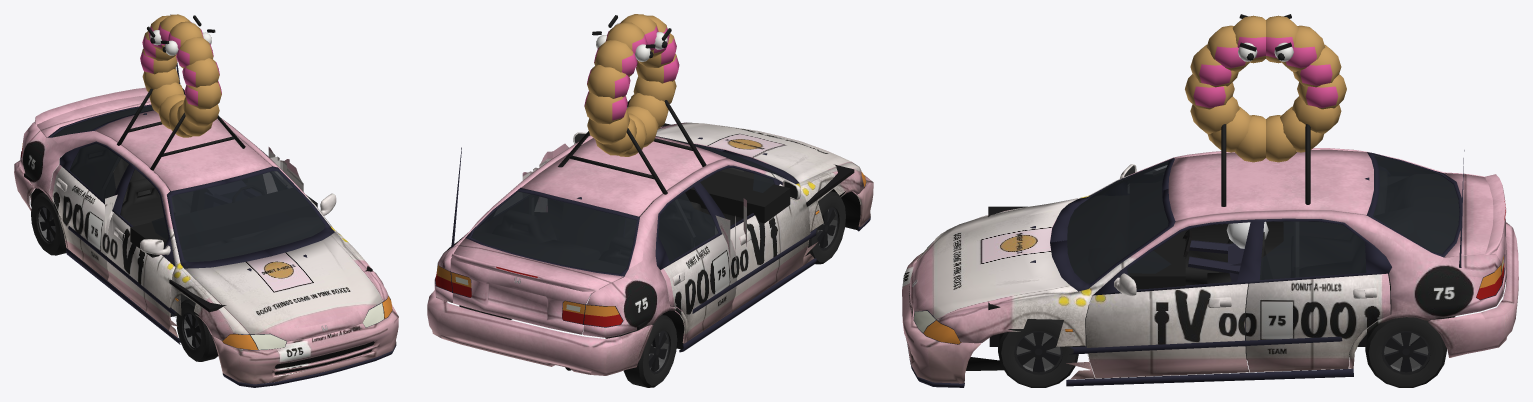
3 views of the same model, side by side, from view 1: azimuth 30°, elevation 25°; view 2: azimuth 150°, elevation 25°; view 3: azimuth 270°, elevation 25° (orthographic). The views are drawn at different scales.
Visible parts, largest first — view 1: body, wheel_fr, wheel_rr; view 2: body, wheel_rr, wheel_fr; view 3: body, wheel_rl, wheel_fl.
Boxes of the visible parts, x1,y1,x2,y2 form: body: (14,14,398,387); wheel_fr: (176,299,218,361); wheel_rr: (31,192,66,255); body: (427,14,873,375); wheel_rr: (623,314,677,387); wheel_fr: (804,191,845,264); body: (902,14,1518,387); wheel_rl: (1365,311,1446,387); wheel_fl: (998,319,1079,387).
Bounding box in the file's own units: 2.03 × 2.54 × 4.4.
2 materials, 1 textured.
